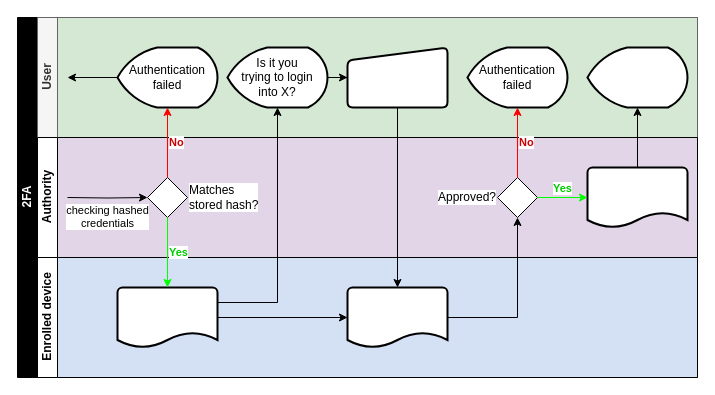
This 715x395 diagram has some shape labels left out. Here are the shapes that lost their labels. From the top down, the centre of each, then its label:
At pixel 397 77: "Approves or rejects request".
At pixel 637 77: "Authentication ok".
At pixel 637 197: "Session".
At pixel 167 317: "2FA request".
At pixel 397 317: "2FA response".
